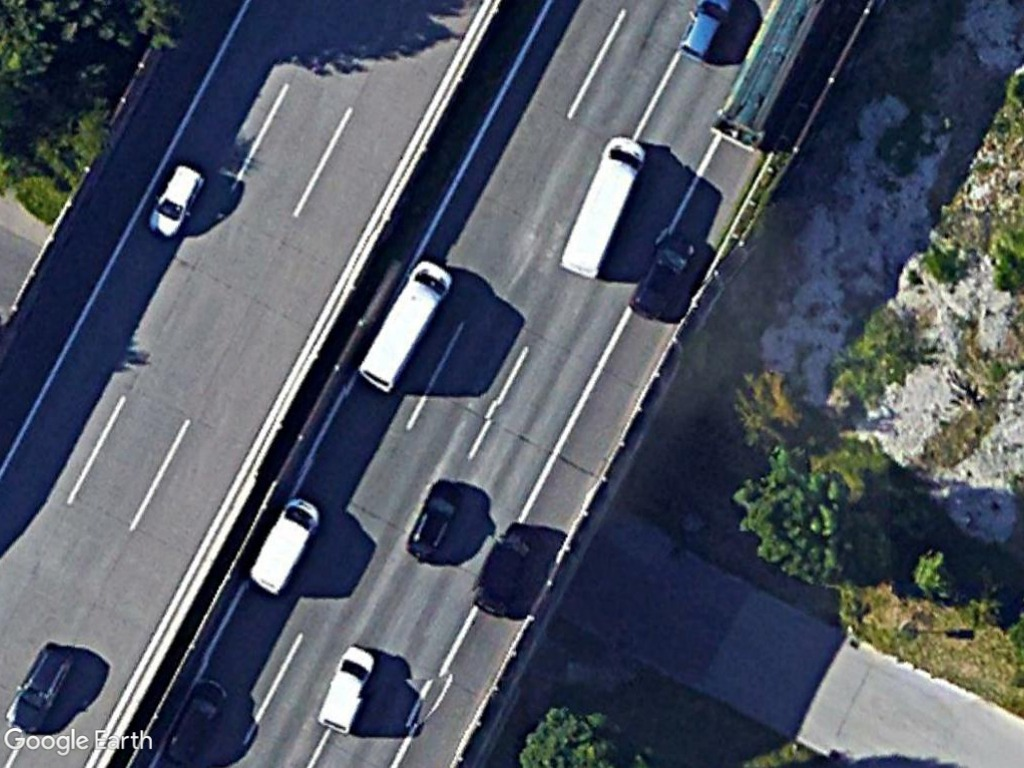car: (8, 638, 79, 738), (626, 229, 699, 325), (404, 473, 467, 567), (143, 156, 208, 240)
van: (352, 251, 457, 397), (556, 129, 647, 283), (243, 493, 322, 598), (314, 639, 378, 738)
